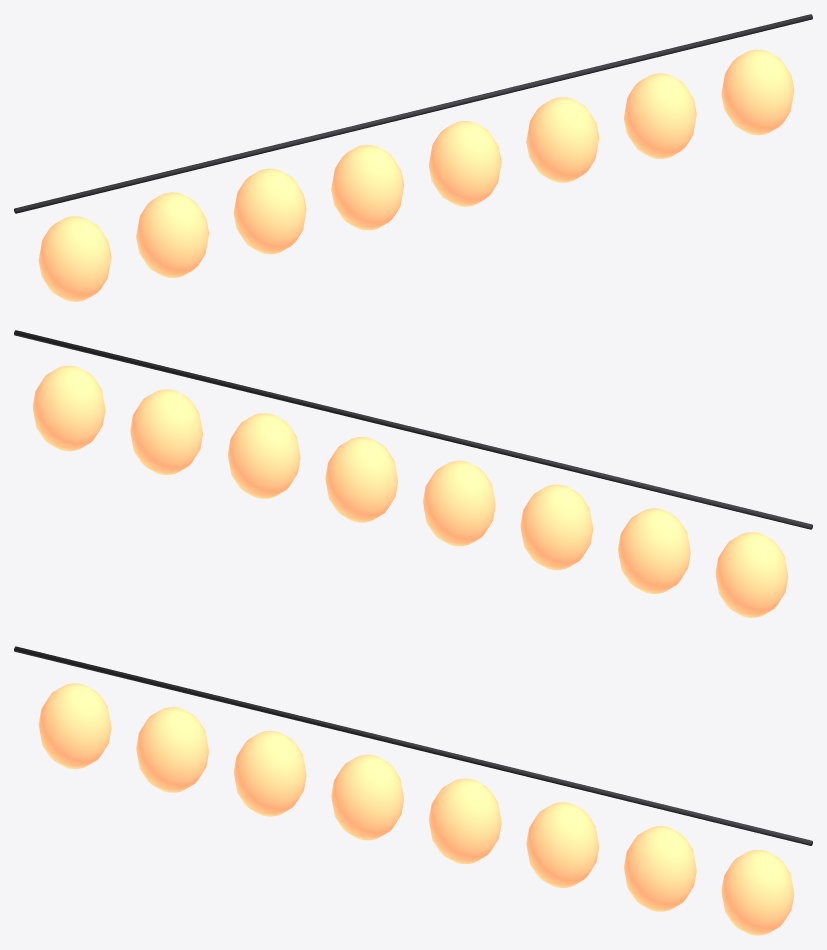
The model's file is prop_chochin_retsu.glb.
3 renders of one model, top to bottom at view 1: azimuth 30°, elevation 25°; view 2: azimuth 150°, elevation 25°; view 3: azimuth 330°, elevation 25°, orthographic.
Parts seen in each view (by area): view 1: chochin_retsu; view 2: chochin_retsu; view 3: chochin_retsu.
Part boxes in pixels (x1,y1,x2,y2): chochin_retsu: (14,14,812,301); chochin_retsu: (14,330,812,617); chochin_retsu: (14,646,812,935).
Bounding box in the file's own units: 4 × 0.504 × 0.32.
